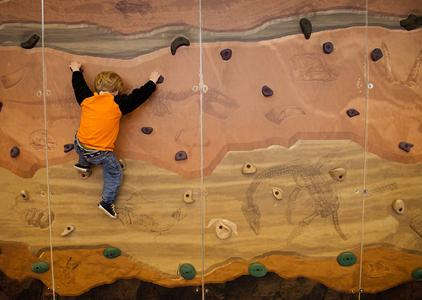person: (66, 61, 164, 219)
